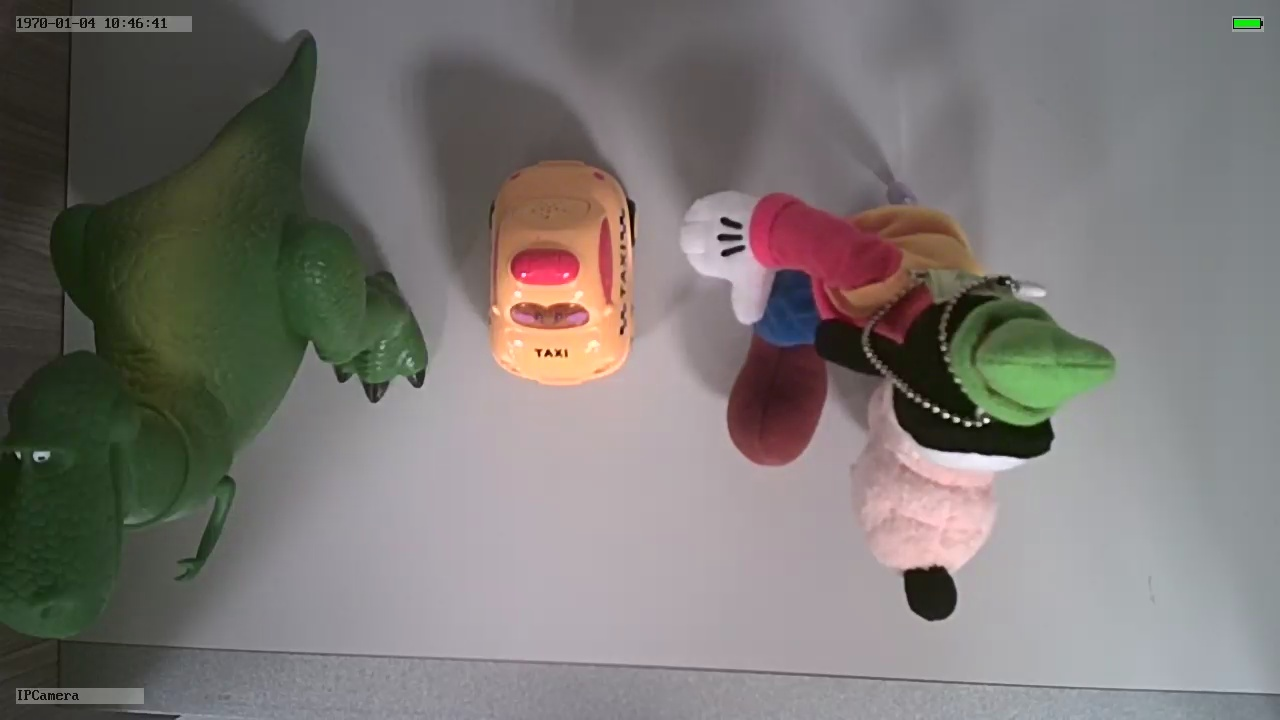car: (480, 153, 641, 394)
goofy: (675, 183, 1116, 624)
rex: (2, 88, 431, 641)
